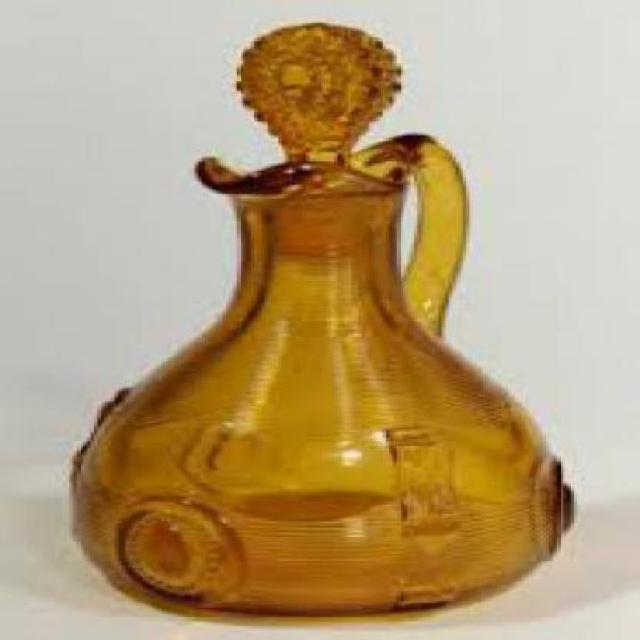kaca: (66, 22, 571, 623)
